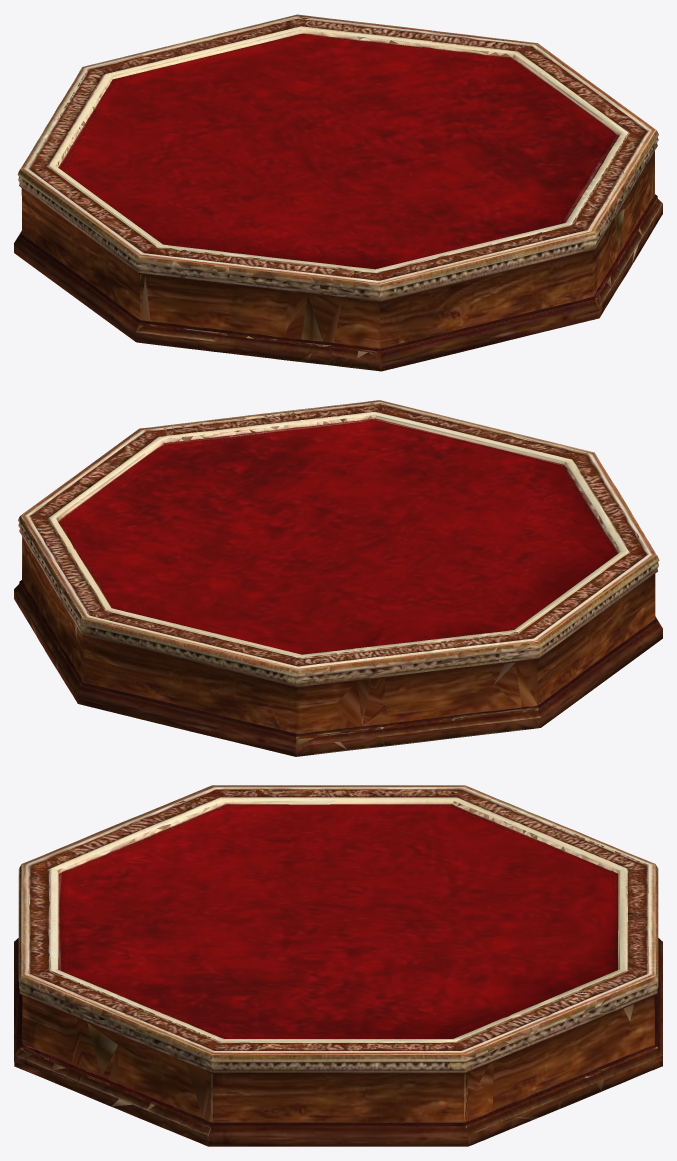
Rendered from podium.glb.
3 renders of one model, top to bottom at view 1: azimuth 30°, elevation 25°; view 2: azimuth 150°, elevation 25°; view 3: azimuth 270°, elevation 25°, orthographic. The views are drawn at different scales.
Visible parts, largest first — view 1: mesh; view 2: mesh; view 3: mesh.
Part boxes in pixels (x1,y1,x2,y2): mesh: (14, 14, 662, 371); mesh: (14, 400, 662, 756); mesh: (14, 785, 662, 1146).
Size of the model in its own units: 1 by 0.1543 by 0.9999.
1 material, 1 textured.
